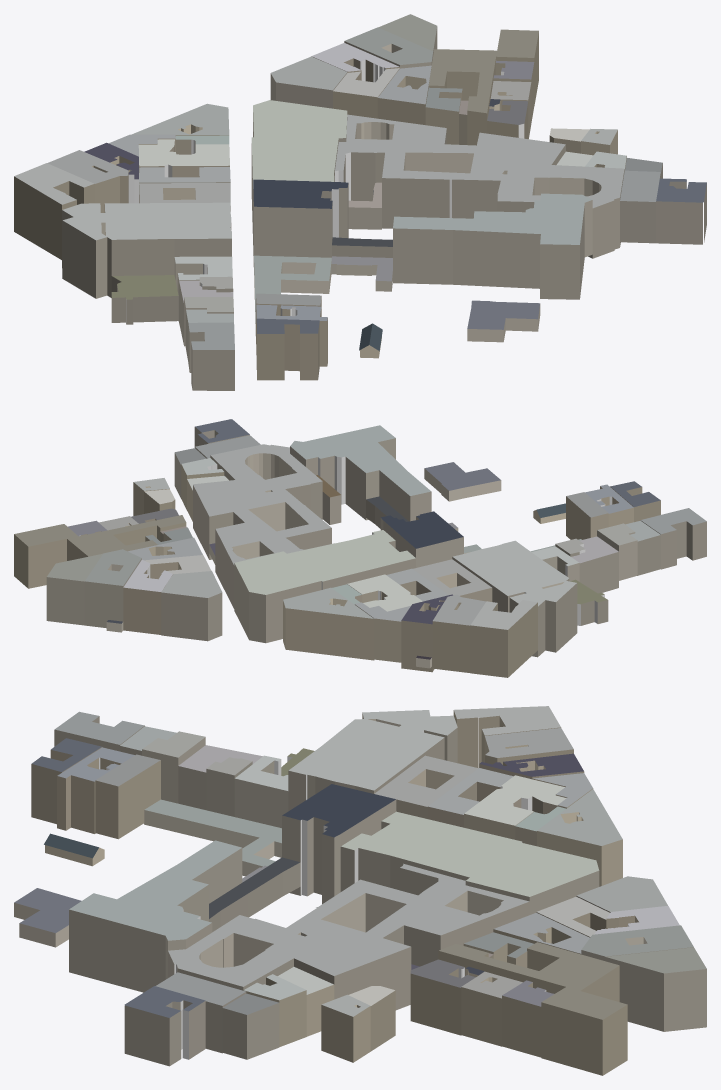
The picture shows the model from 3 angles, top to bottom: view 1: azimuth 30°, elevation 25°; view 2: azimuth 150°, elevation 25°; view 3: azimuth 270°, elevation 25°; orthographic projection. The views are drawn at different scales.
Visible parts, largest first — view 1: tuile; view 2: tuile; view 3: tuile.
Part boxes in pixels (x1,y1,x2,y2): tuile: (14, 14, 706, 390); tuile: (14, 419, 706, 677); tuile: (14, 706, 706, 1075).
Bounding box in the file's own units: 288 × 33.32 × 262.
